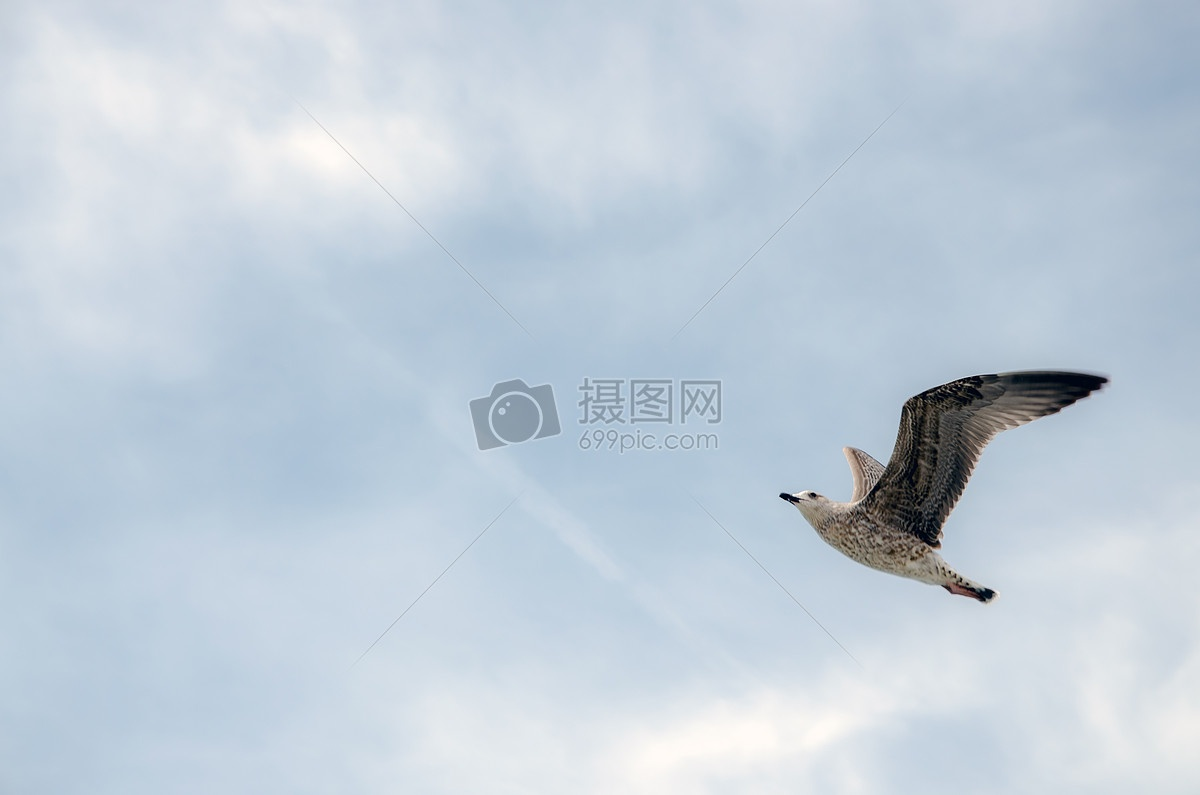bird: (768, 368, 1106, 607)
